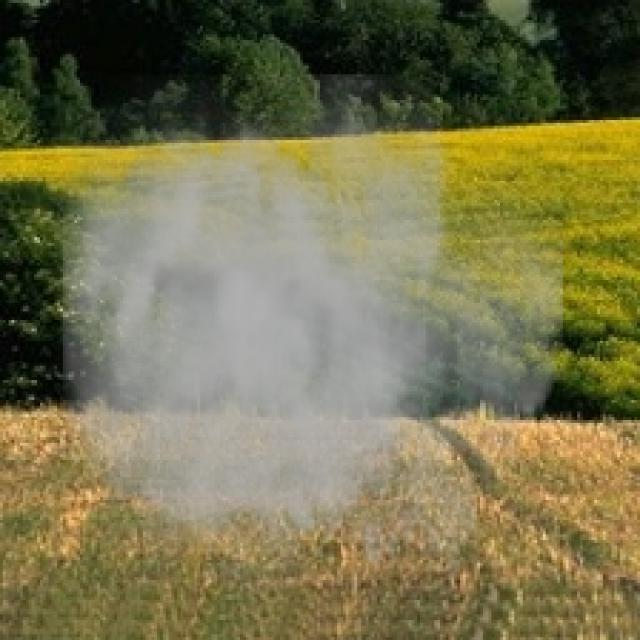smoke: (31, 75, 563, 634)
